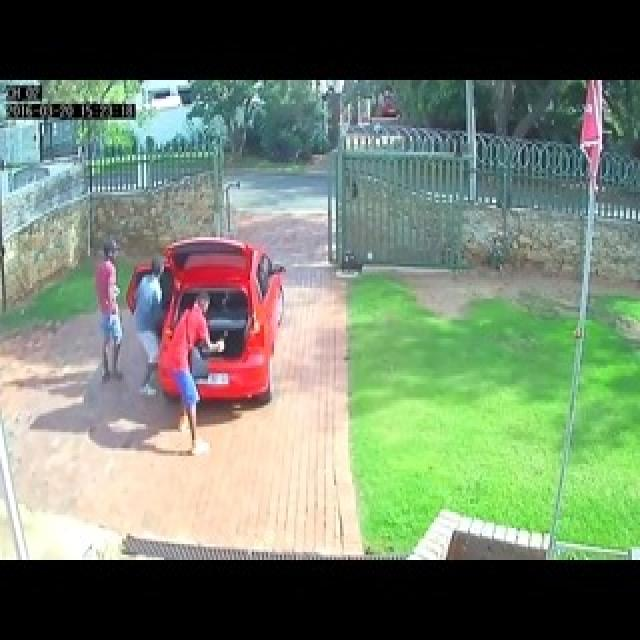thief: (91, 232, 138, 298), (137, 246, 170, 312), (185, 288, 216, 348)
